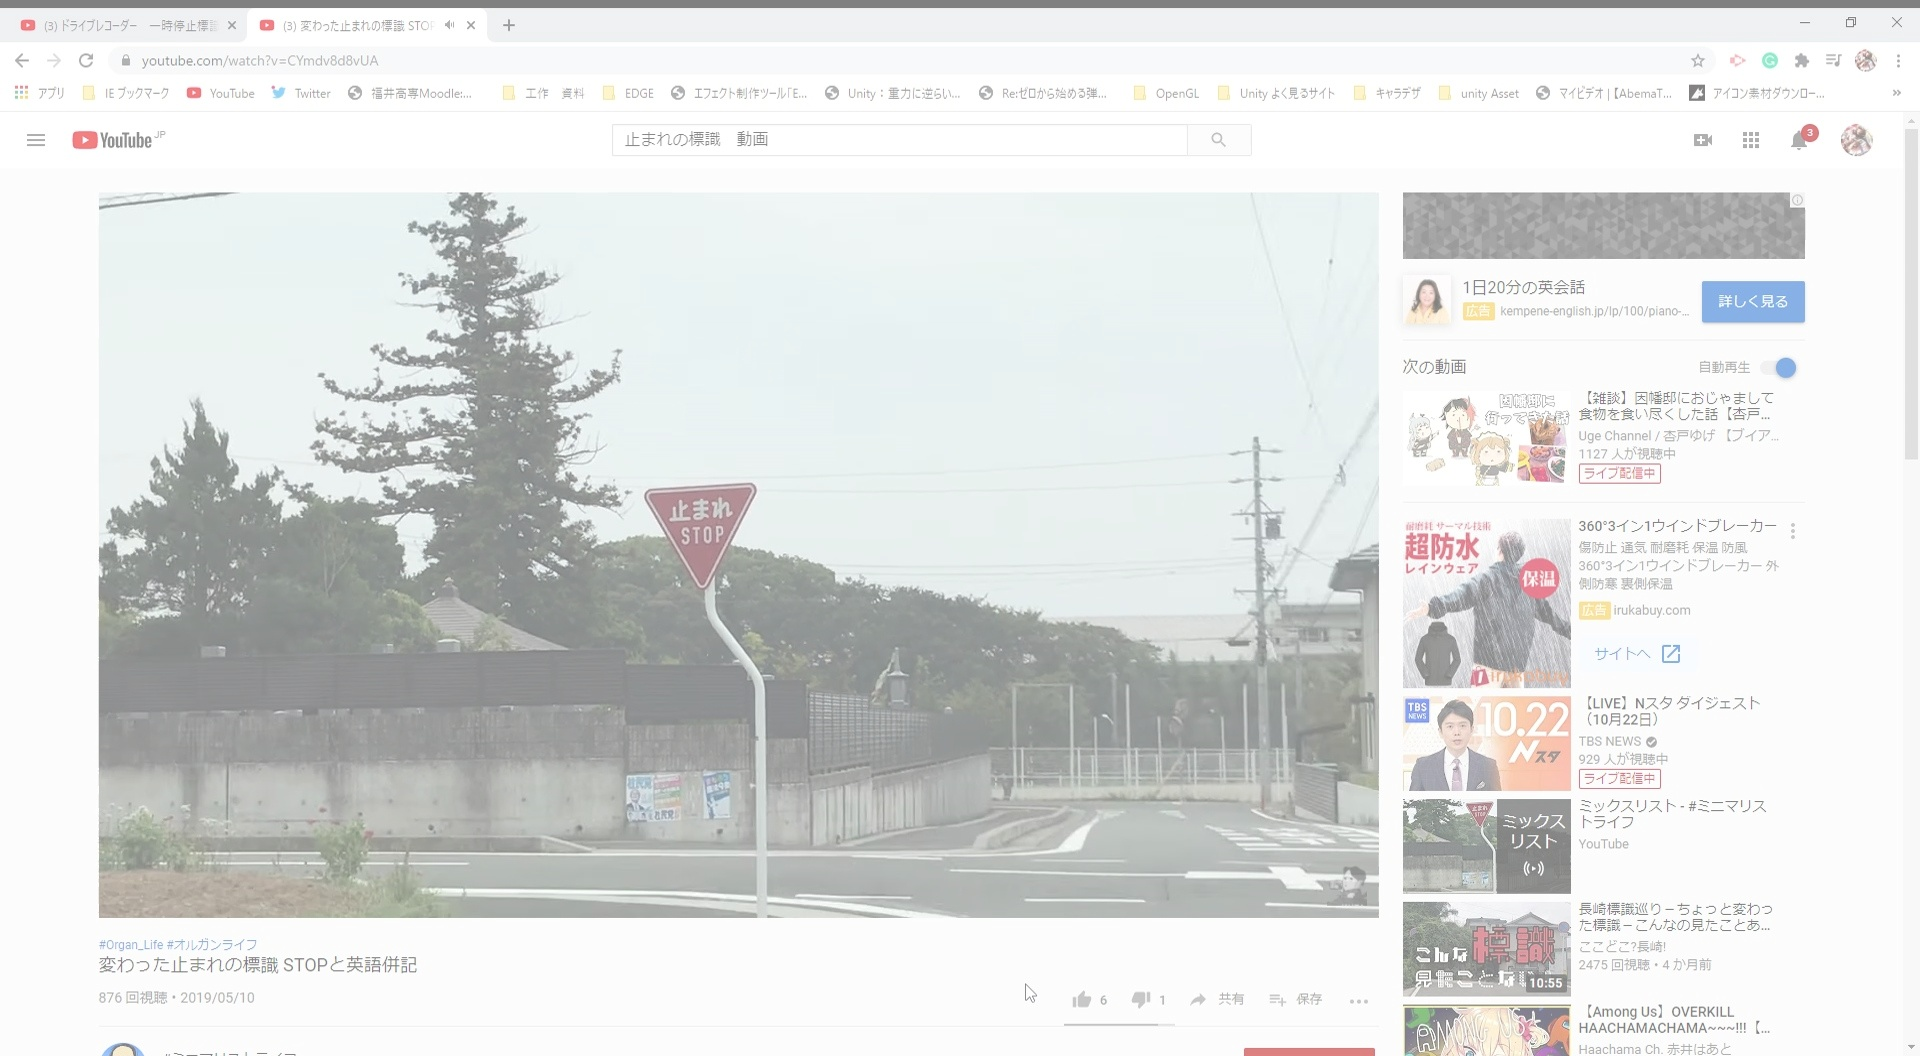Regulatory_sign_triangle: (642, 472, 781, 597)
